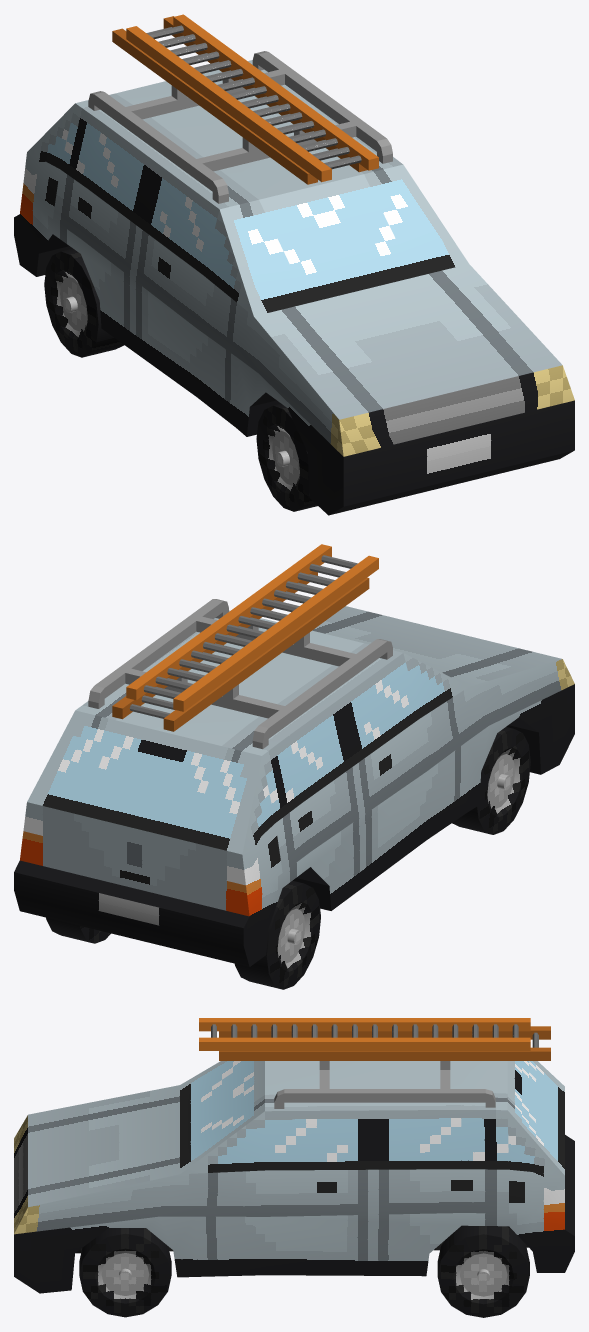
The model's file is Uno.fbx.
The picture shows the model from 3 angles, top to bottom: view 1: azimuth 30°, elevation 25°; view 2: azimuth 150°, elevation 25°; view 3: azimuth 270°, elevation 25°; orthographic projection. The views are drawn at different scales.
Visible parts, largest first — view 1: Uno, Escada; view 2: Uno, Escada; view 3: Uno, Escada.
Boxes of the visible parts, x1,y1,x2,y2 form: Uno: [14, 60, 574, 515]; Escada: [88, 14, 392, 203]; Uno: [14, 606, 574, 989]; Escada: [88, 544, 392, 749]; Uno: [14, 1061, 574, 1317]; Escada: [199, 1018, 550, 1108].
Size of the model in its own units: 70.88 by 82.96 by 174.
Materials: 1 (1 with a texture image).
